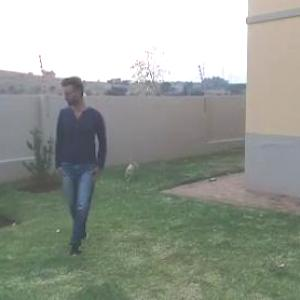follow: (63, 70, 111, 241)
